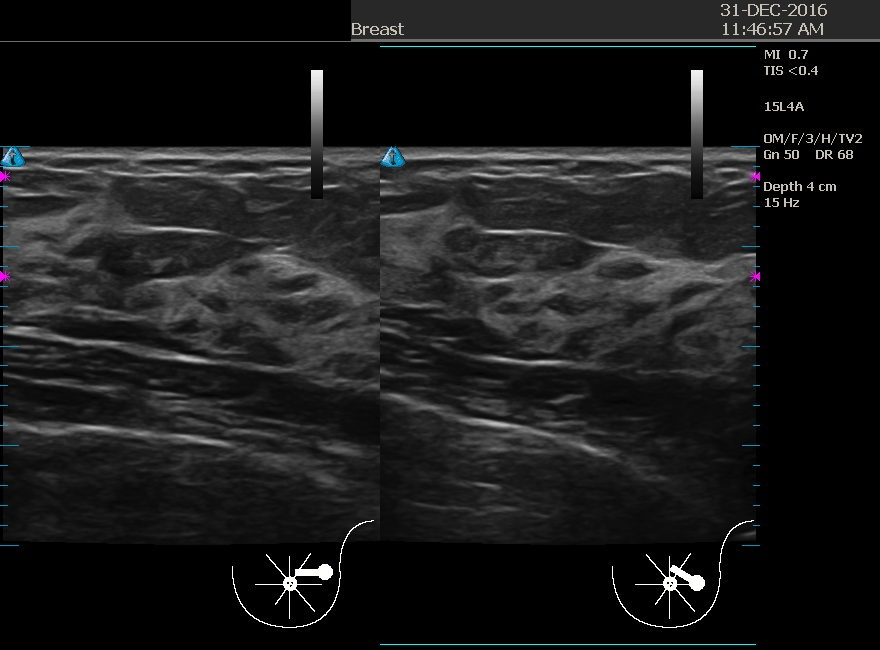Benign: (71, 158, 271, 358), (425, 171, 625, 371)
